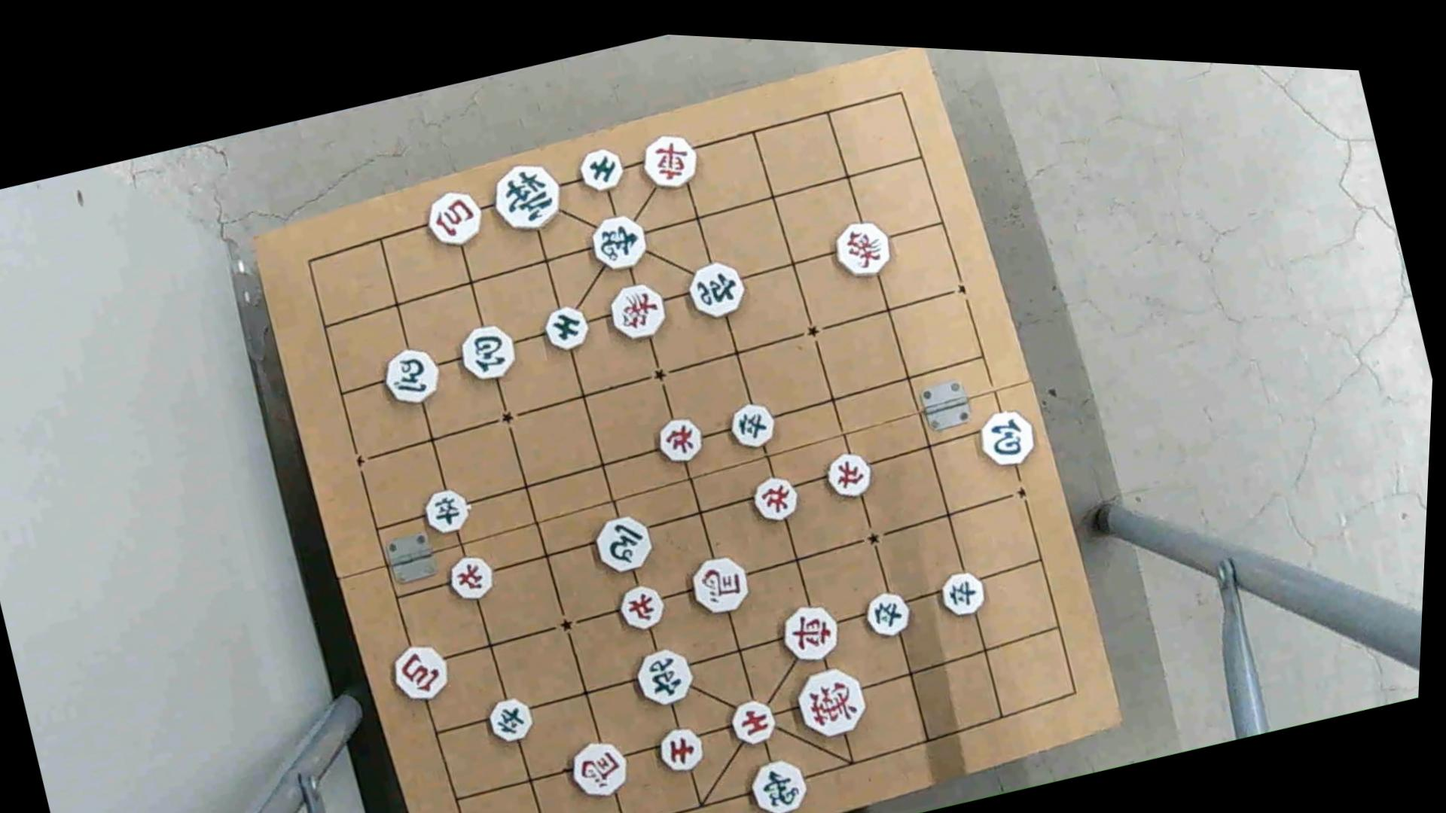cha_green: (627, 644, 700, 712), (680, 256, 750, 321)
cha_red: (776, 601, 847, 669), (634, 130, 704, 196)
jol_green: (857, 586, 917, 640), (419, 483, 477, 537), (726, 398, 781, 452), (482, 693, 538, 745), (934, 567, 990, 619)
jol_red: (652, 413, 712, 467), (747, 473, 804, 527), (444, 550, 501, 603), (613, 581, 670, 634), (821, 448, 877, 501)
ma_green: (587, 509, 659, 576), (378, 344, 447, 407)
ma_red: (684, 553, 756, 620), (562, 738, 634, 804)
po_green: (970, 403, 1044, 470), (451, 321, 520, 388)
po_red: (418, 184, 490, 250), (384, 642, 454, 707)
sa_green: (539, 302, 596, 355), (573, 145, 629, 196)
sa_red: (725, 696, 784, 749), (651, 722, 709, 775)
sang_green: (584, 209, 654, 276), (744, 755, 813, 813)
sang_red: (602, 279, 673, 346), (828, 216, 898, 283)
wang_green: (485, 154, 569, 239)
wang_red: (790, 659, 878, 745)
